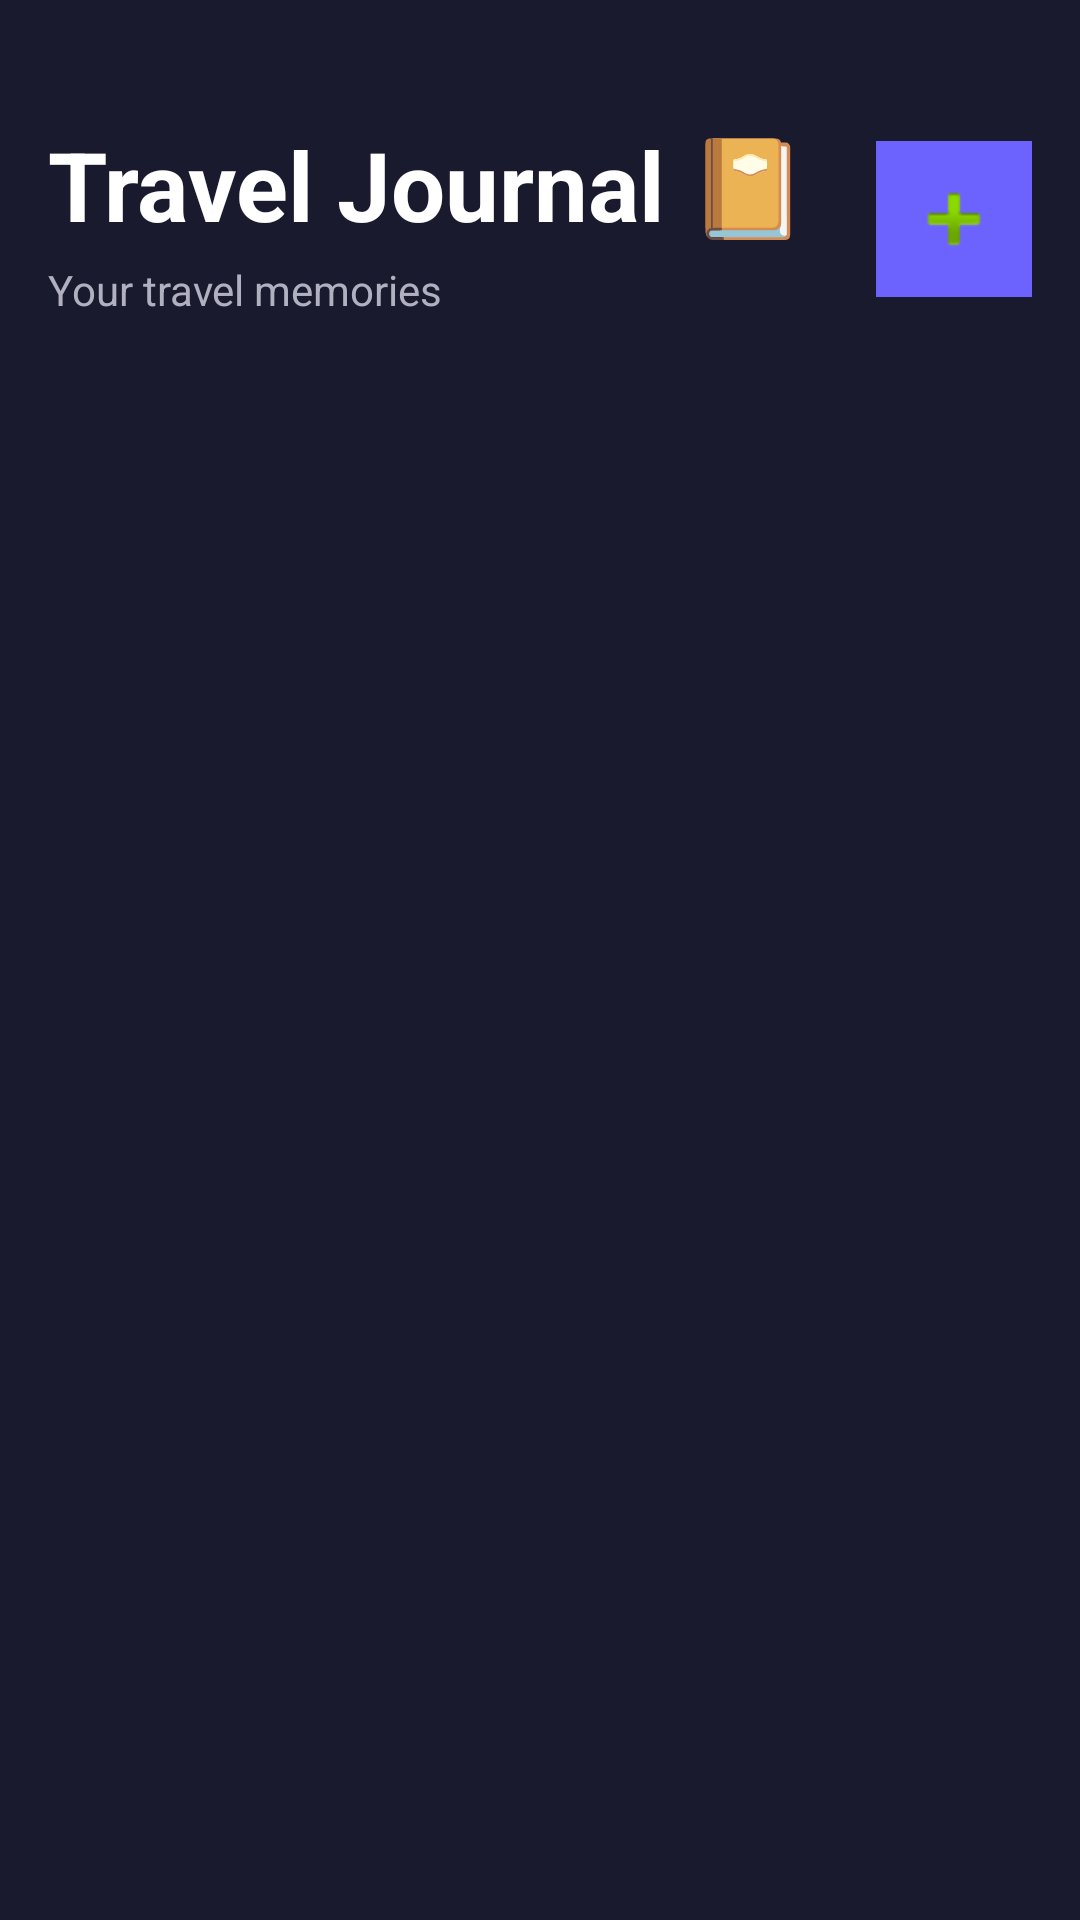

Locate icon controls on the screen. Image size 1080px x 1920px, boxes as (x1, y1, x2, y2).
Add Entry: (876, 141, 1032, 297)
